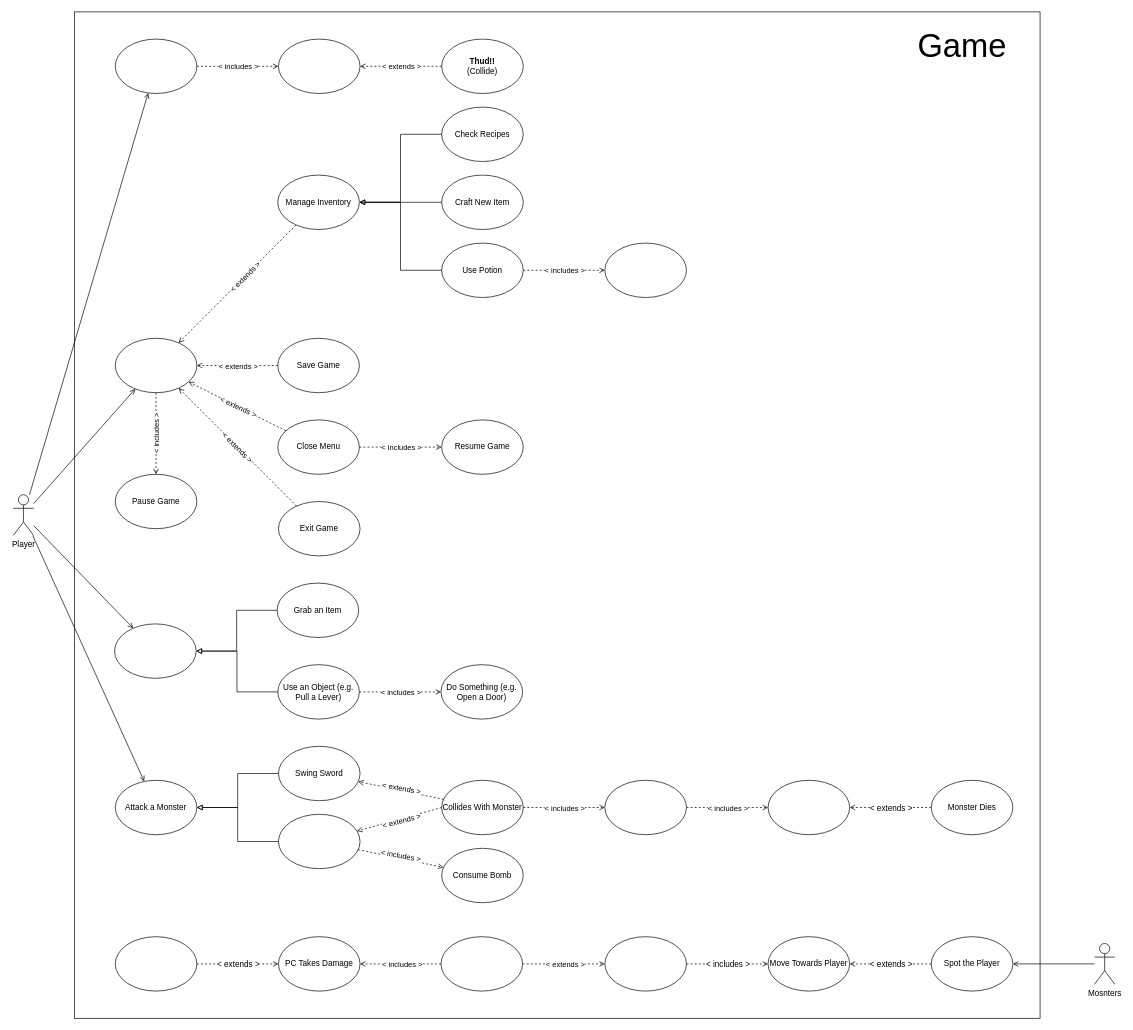
The diagram is 1133 pixels wide and 1030 high, and some of its shapes have lost their labels. The centre of each missing label's shape, as x and y in pixels:
"Attack PC" goes at point 645,963.
"Check if It’s a Valid Move" goes at point 319,66.
"Collides With PC" goes at point 481,963.
"Interact With an Object" goes at point 155,650.
"Monster Loses HP" goes at point 808,807.
"Monster Takes Damage" goes at point 645,807.
"Move PC" goes at point 156,66.
"Open Menu" goes at point 156,365.
"PC Dies" goes at point 156,963.
"Restore PC's HP" goes at point 645,270.
"Throw Bomb" goes at point 319,841.
